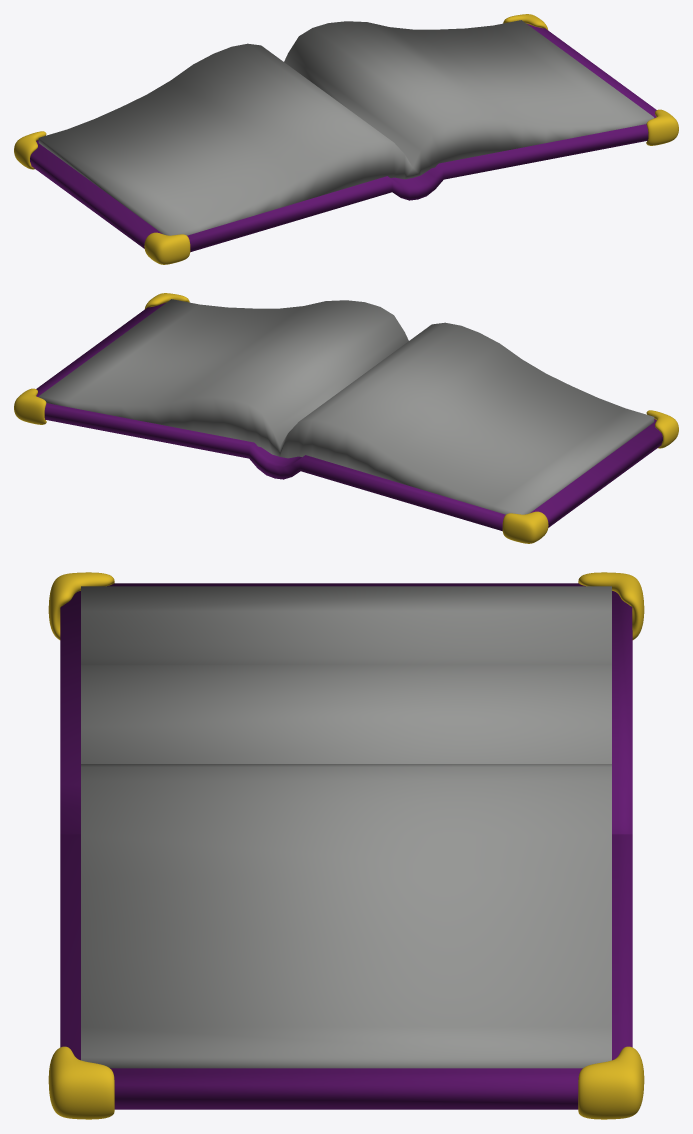
File: BookOpen.glb
3 renders of one model, top to bottom at view 1: azimuth 30°, elevation 25°; view 2: azimuth 150°, elevation 25°; view 3: azimuth 270°, elevation 25°, orthographic. The views are drawn at different scales.
Parts seen in each view (by area): view 1: OpenBook, OpenCover, OpenBraces; view 2: OpenBook, OpenCover, OpenBraces; view 3: OpenBook, OpenCover, OpenBraces.
Boxes of the visible parts, x1,y1,x2,y2 form: OpenBook: (38,20,654,235); OpenCover: (30,23,656,251); OpenBraces: (14,14,678,264); OpenBook: (38,299,654,514); OpenCover: (36,302,662,530); OpenBraces: (14,293,678,543); OpenBook: (81,586,611,1068); OpenCover: (60,583,632,1109); OpenBraces: (48,572,644,1119).
Size of the model in its own units: 4.56 by 0.574 by 2.24.
